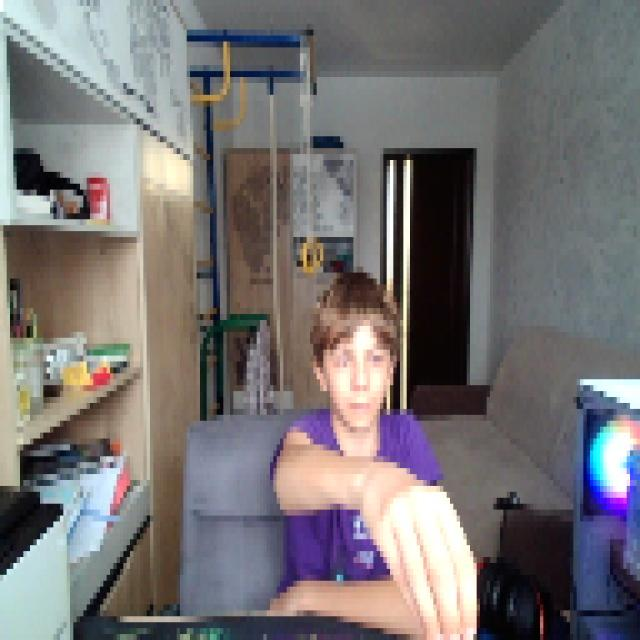left_click: (370, 474, 477, 634)
